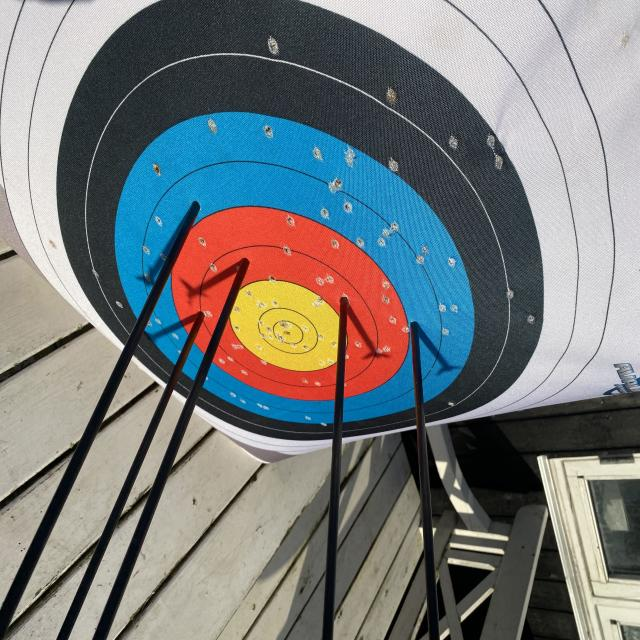Arrow_Blue: (179, 180, 222, 228), (406, 311, 431, 351)
Arrow_Red: (231, 243, 263, 285), (188, 299, 215, 343), (329, 280, 355, 314)
